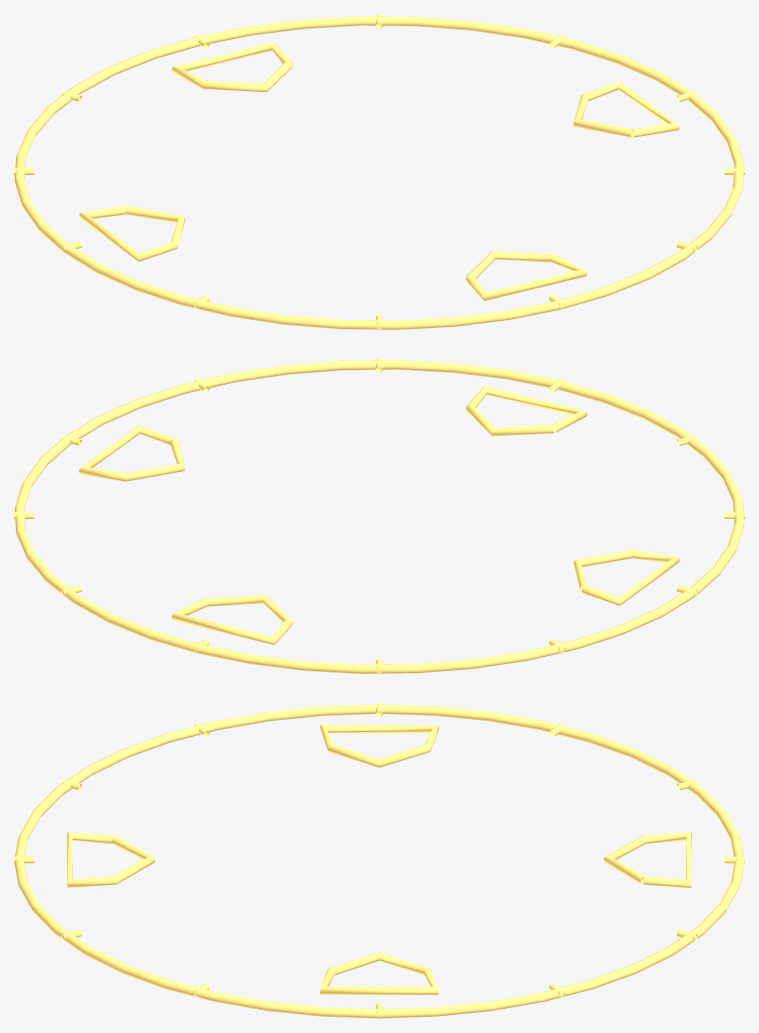
Rendered from affix_ward_aura.glb.
3 renders of one model, top to bottom at view 1: azimuth 30°, elevation 25°; view 2: azimuth 150°, elevation 25°; view 3: azimuth 270°, elevation 25°, orthographic.
Parts seen in each view (by area): view 1: ward ground inscriptions; view 2: ward ground inscriptions; view 3: ward ground inscriptions.
Part boxes in pixels (bbox=[...]): ward ground inscriptions: bbox=[14, 14, 744, 329]; ward ground inscriptions: bbox=[14, 358, 744, 673]; ward ground inscriptions: bbox=[14, 702, 744, 1018].
Size of the model in its own units: 1.44 by 0.022 by 1.44.
